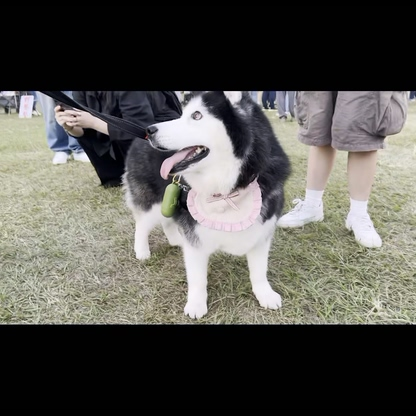husky: (116, 90, 297, 321)
